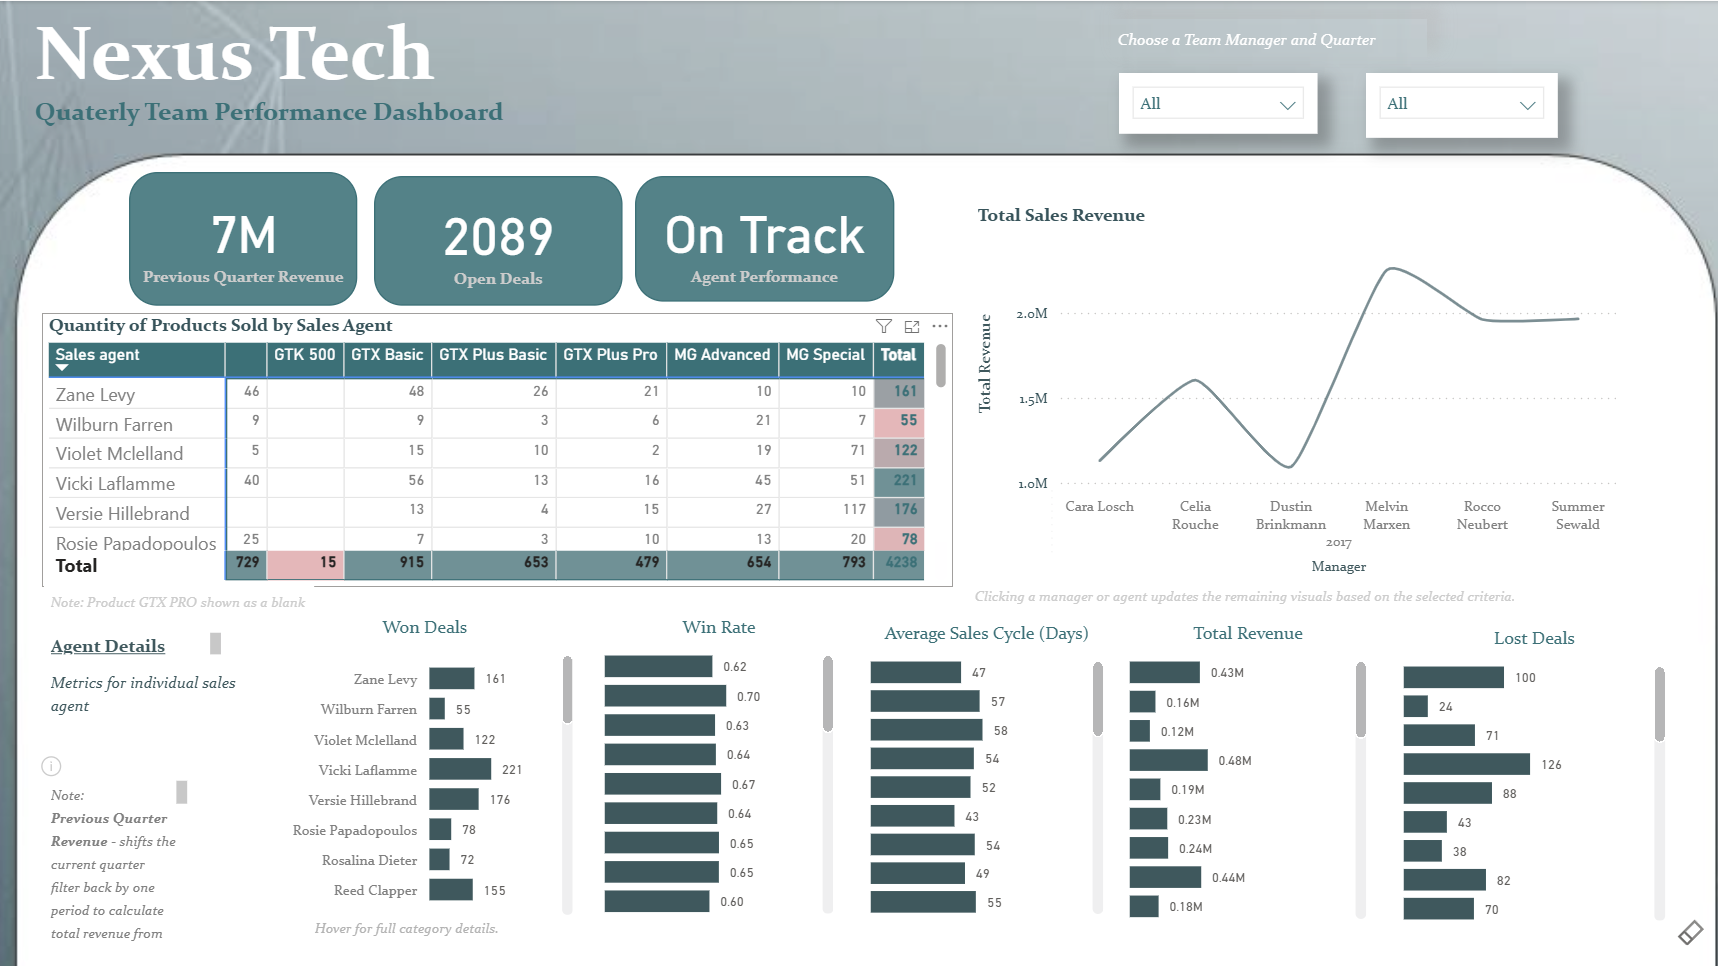

The dashboard page shown, as its layout file describes it:
{"tool":"powerbi","page":{"name":"Page 1 - Team Performance ","canvas":[1280,720],"ordinal":1},"visuals":[{"type":"clusteredBarChart","title":"Won Deals ","fields":{"Category":["sales_teams.Sales agent"],"Y":["Measure table.Won Deals"]},"box":[200.6,454.8,229.3,227],"z":0},{"type":"clusteredBarChart","title":"Win Rate ","fields":{"Category":["sales_teams.Sales agent"],"Y":["Measure table.Win Rate"]},"box":[443.1,454.8,179.3,226.3],"z":1000},{"type":"clusteredBarChart","title":"Average Sales Cycle (Days)","fields":{"Category":["sales_teams.Sales agent"],"Y":["Measure table.Avg Sales Cycle (Days)"]},"box":[640.7,459.2,182.2,221.9],"z":2000},{"type":"clusteredBarChart","title":"Total Revenue ","fields":{"Category":["sales_teams.Sales agent"],"Y":["Measure table.Total Revenue"]},"box":[831.8,459.2,185.2,225.6],"z":3000},{"type":"clusteredBarChart","title":"Lost Deals ","fields":{"Category":["sales_teams.Sales agent"],"Y":["Measure table.Lost Deals"]},"box":[1035.3,462.9,203.5,223.4],"z":4000},{"type":"textbox","box":[33.2,462.6,136.4,26.4],"z":5000},{"type":"textbox","box":[33.2,489,148.1,64.5],"z":6000},{"type":"treemap","title":"Total Sales Revenue by Sector","fields":{"Group":["accounts.sector"],"Values":["Measure table.Total Revenue"]},"box":[694.2,171.4,290,243.9],"z":7000},{"type":"slicer","title":"Choose a Team Manager","fields":{"Values":["sales_teams.Manager"]},"box":[828.8,53.6,147,44.8],"z":8000},{"type":"slicer","fields":{"Values":["Calendar.Quarter"]},"box":[1011.8,53.6,141.8,47.8],"z":9000},{"type":"pivotTable","fields":{"Rows":["sales_teams.Sales agent"],"Columns":["products.product"],"Values":["Measure table.Won Deal Count"]},"box":[85.4,239,599.6,190.4],"z":10000},{"type":"card","fields":{"Values":["Measure table.Revenue Prior Quarter"]},"box":[95.2,132.7,180,105.1],"z":11000},{"type":"card","fields":{"Values":["Measure table.Open Deals"]},"box":[285.1,132.7,190.4,106.3],"z":12000},{"type":"textbox","box":[21.5,0,333.1,82.6],"z":13000},{"type":"textbox","box":[21.5,65.3,393.4,34.7],"z":14000},{"type":"textbox","box":[823.1,13.2,233.9,28.1],"z":15000},{"type":"textbox","box":[33.2,571.9,110.6,129.6],"z":16000},{"type":"actionButton","box":[21.3,549.6,44.8,34.5],"z":17000},{"type":"textbox","box":[716.9,415.3,446,60.8],"z":18000},{"type":"textbox","box":[228.5,670.9,173.2,33.2],"z":19000},{"type":"actionButton","box":[1238.9,673.1,27.9,33.1],"z":20000},{"type":"card","fields":{"Values":["Measure table.Is Lagging Agent"]},"box":[484.1,132.7,186.1,106.3],"z":21000},{"type":"lineChart","title":"Total Sales Revenue","fields":{"Y":["Measure Table.Total Revenue"],"Category":["Calendar.Date.Variation.Date Hierarchy.Year","sales_teams.Manager"]},"box":[984.2,171.4,268.5,239],"z":22000}]}

Visuals, with their boxes in screenshot pixels (x1, y1, x2, y2), scaled from the page's 1280x720 canvas onto the 1718x966 screenshot:
"Won Deals " clusteredBarChart: [left=269, top=610, right=577, bottom=915]
"Win Rate " clusteredBarChart: [left=595, top=610, right=835, bottom=914]
"Average Sales Cycle (Days)" clusteredBarChart: [left=860, top=616, right=1104, bottom=914]
"Total Revenue " clusteredBarChart: [left=1116, top=616, right=1365, bottom=919]
"Lost Deals " clusteredBarChart: [left=1390, top=621, right=1663, bottom=921]
textbox: [left=45, top=621, right=228, bottom=656]
textbox: [left=45, top=656, right=243, bottom=743]
"Total Sales Revenue by Sector" treemap: [left=932, top=230, right=1321, bottom=557]
"Choose a Team Manager" slicer: [left=1112, top=72, right=1310, bottom=132]
slicer - Calendar.Quarter: [left=1358, top=72, right=1548, bottom=136]
pivotTable - sales_teams.Sales agent x products.product: [left=115, top=321, right=919, bottom=576]
card - Measure table.Revenue Prior Quarter: [left=128, top=178, right=369, bottom=319]
card - Measure table.Open Deals: [left=383, top=178, right=638, bottom=321]
textbox: [left=29, top=0, right=476, bottom=111]
textbox: [left=29, top=88, right=557, bottom=134]
textbox: [left=1105, top=18, right=1419, bottom=55]
textbox: [left=45, top=767, right=193, bottom=941]
actionButton: [left=29, top=737, right=89, bottom=784]
textbox: [left=962, top=557, right=1561, bottom=639]
textbox: [left=307, top=900, right=539, bottom=945]
actionButton: [left=1663, top=903, right=1700, bottom=947]
card - Measure table.Is Lagging Agent: [left=650, top=178, right=900, bottom=321]
"Total Sales Revenue" lineChart: [left=1321, top=230, right=1681, bottom=551]
